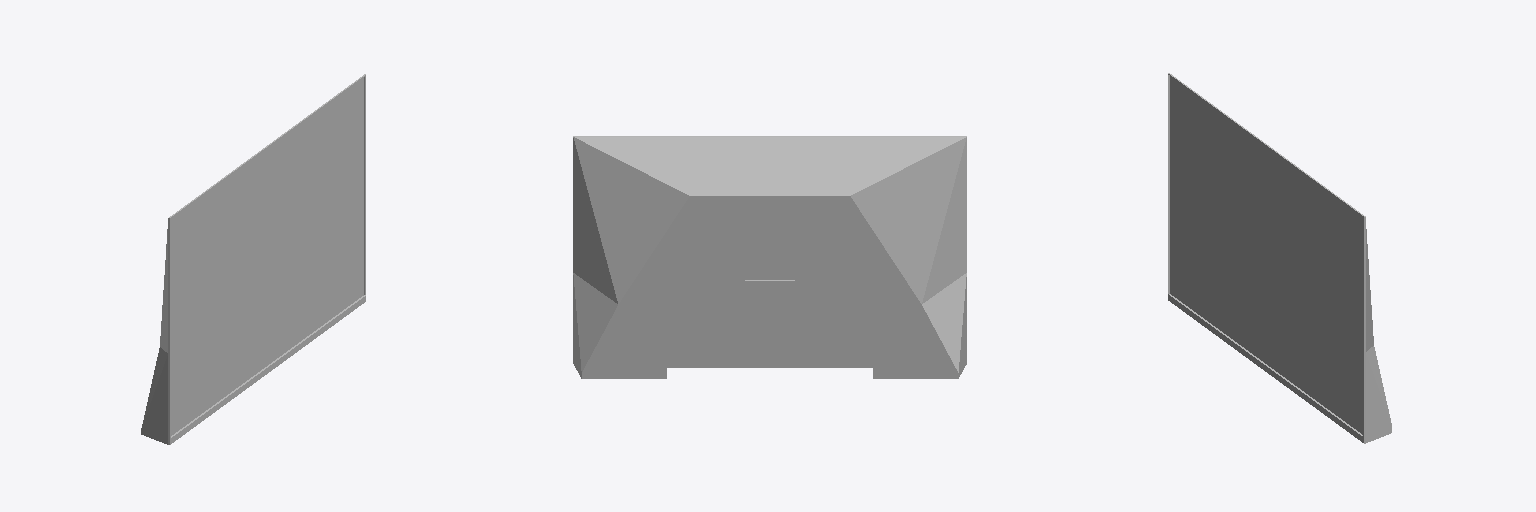
The model's file is monitor1.obj.
The picture shows the model from 3 angles: view 1: azimuth 30°, elevation 25°; view 2: azimuth 150°, elevation 25°; view 3: azimuth 270°, elevation 25°; orthographic projection.
Parts seen in each view (by area): view 1: Cube.016_Material.004; view 2: Cube.016_Material.004; view 3: Cube.016_Material.004.
Part boxes in pixels (x1,y1,x2,y2): Cube.016_Material.004: (141,74,365,444); Cube.016_Material.004: (573,136,966,378); Cube.016_Material.004: (1168,73,1391,443).
Size of the model in its own units: 0.4923 by 0.35 by 0.3144.